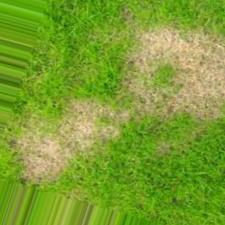patch: (195, 44, 225, 65), (195, 64, 218, 91), (40, 148, 66, 171), (155, 36, 183, 55), (77, 117, 92, 136)
